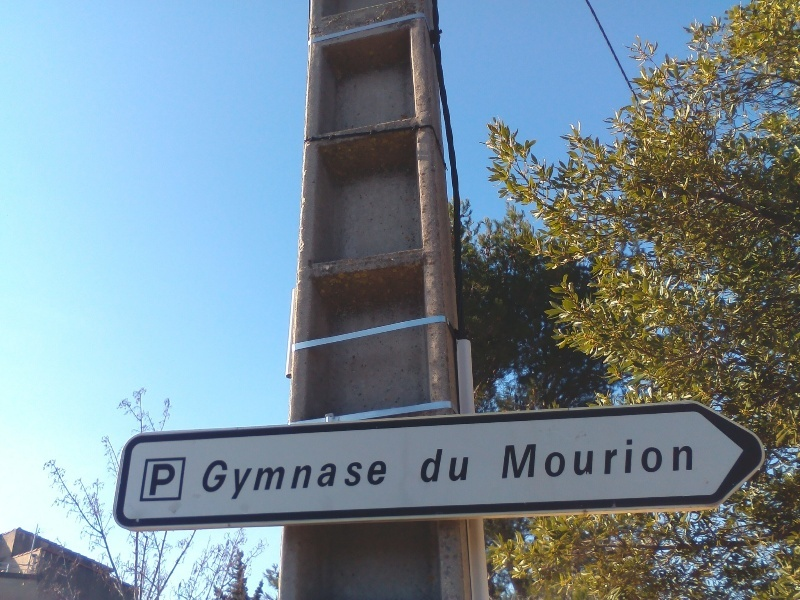text: (209, 454, 224, 503), (225, 454, 240, 503), (241, 454, 256, 503), (257, 454, 272, 503), (273, 454, 288, 503), (289, 454, 304, 503), (305, 454, 320, 503), (321, 454, 336, 503), (337, 454, 352, 503), (353, 454, 368, 503), (369, 454, 384, 503), (513, 436, 528, 481), (529, 436, 544, 481), (545, 436, 560, 481), (561, 436, 576, 481), (577, 436, 592, 481), (593, 436, 608, 481), (609, 436, 624, 481), (625, 436, 640, 481), (641, 436, 656, 481), (657, 436, 672, 481), (673, 436, 688, 481), (433, 447, 448, 484), (449, 447, 464, 484), (161, 461, 176, 498), (465, 447, 474, 484), (505, 436, 512, 481), (689, 436, 696, 481), (424, 447, 432, 484), (152, 461, 160, 498), (385, 454, 391, 503), (203, 454, 208, 503), (177, 461, 178, 498)
